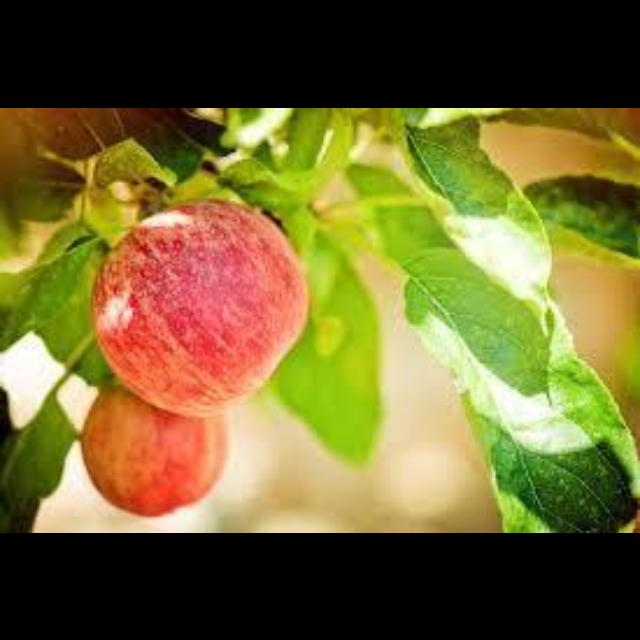apple: (93, 198, 307, 414), (81, 386, 226, 514)
